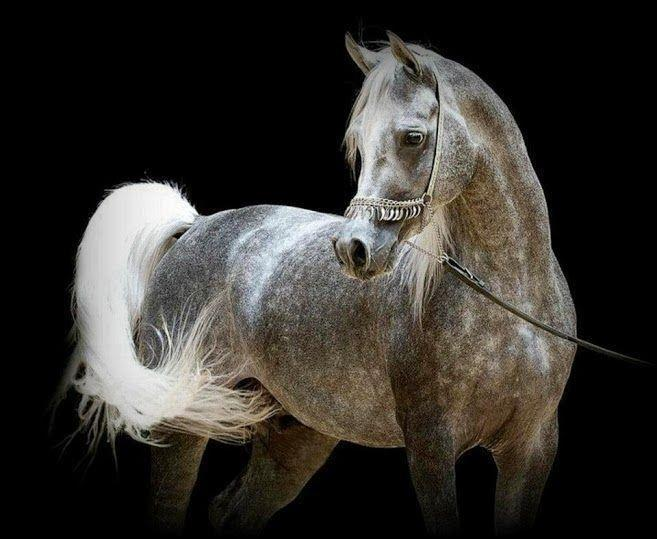horse: (53, 27, 579, 537)
